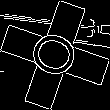O_E: (24, 26, 86, 84)
